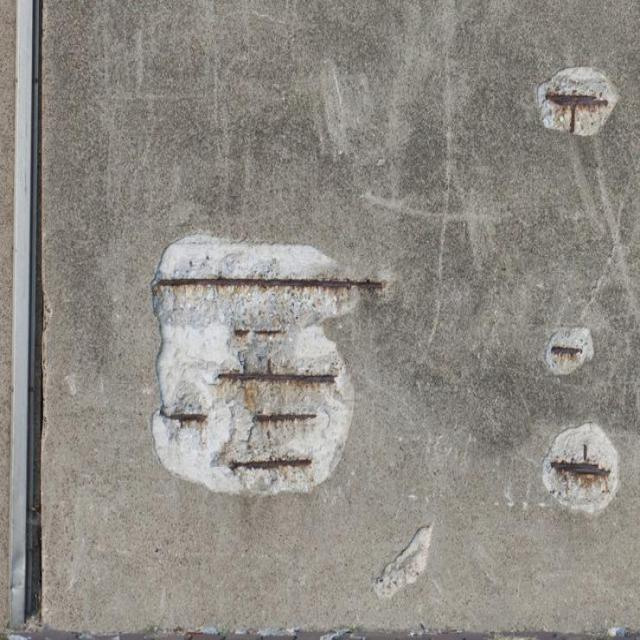Rebar: (150, 231, 382, 498), (539, 421, 619, 518), (535, 65, 620, 136), (543, 323, 594, 376)
concrete spalling: (372, 521, 430, 601)
diagonal crack: (577, 162, 640, 319)
